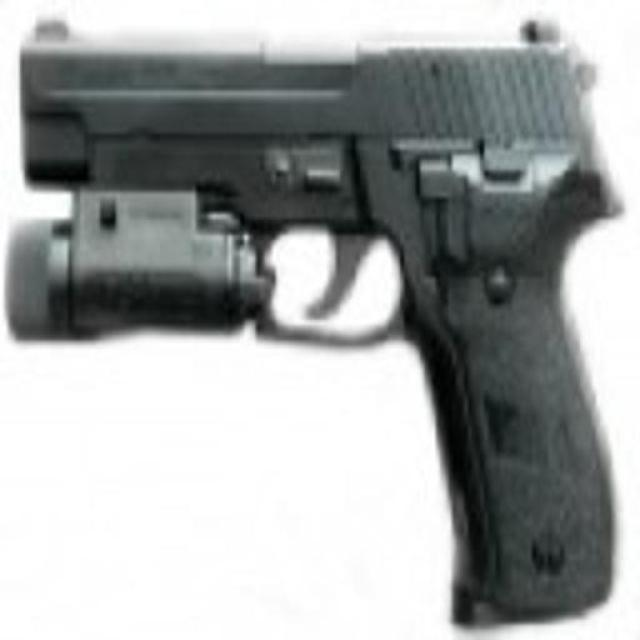pistol: (15, 15, 624, 617)
